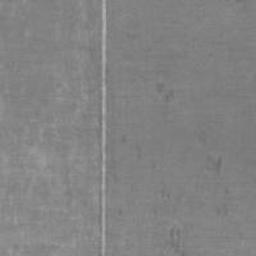Welding line: (100, 0, 109, 256)
